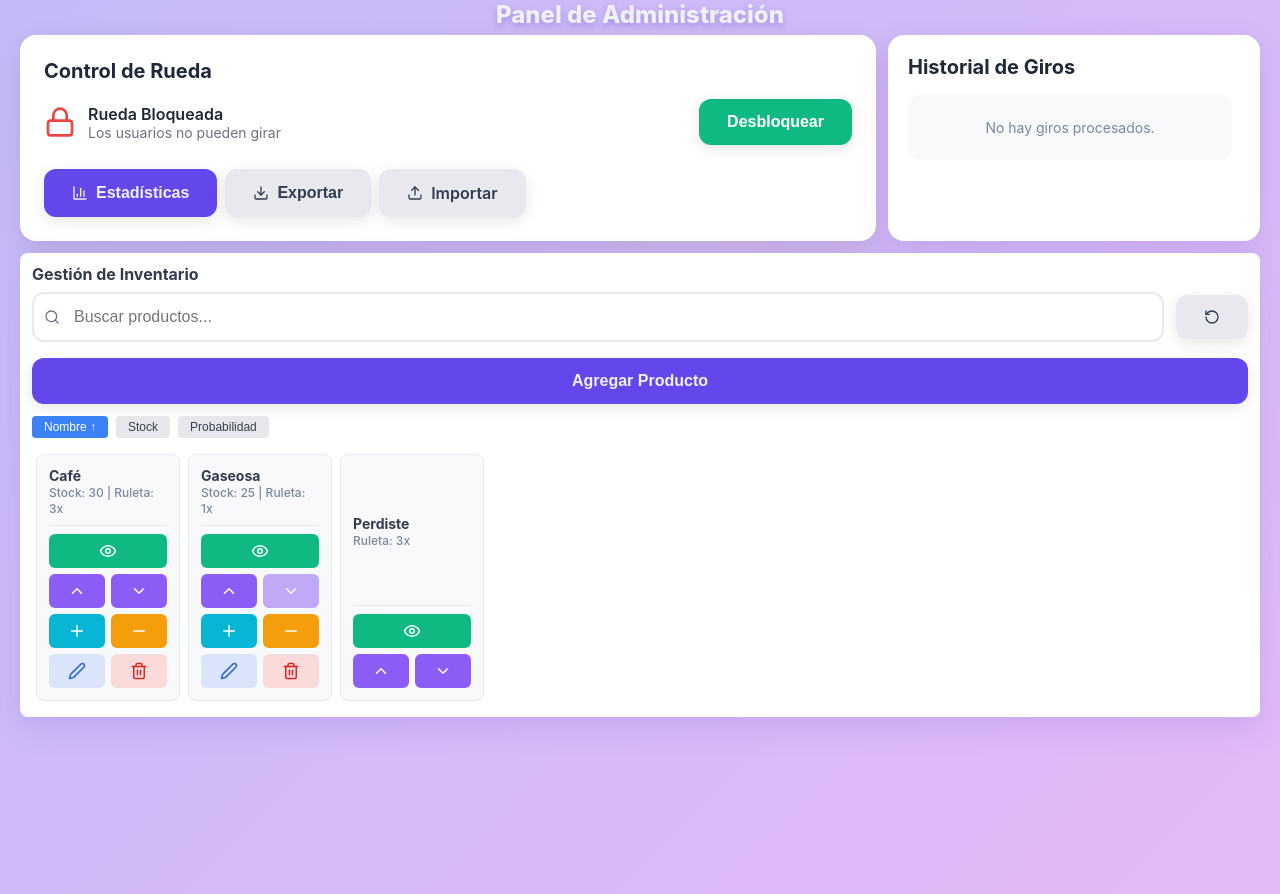
AdminPage › should show add prize form when button clicked
Click the button "Agregar Producto" at (640, 381), box [32,358,1248,404]
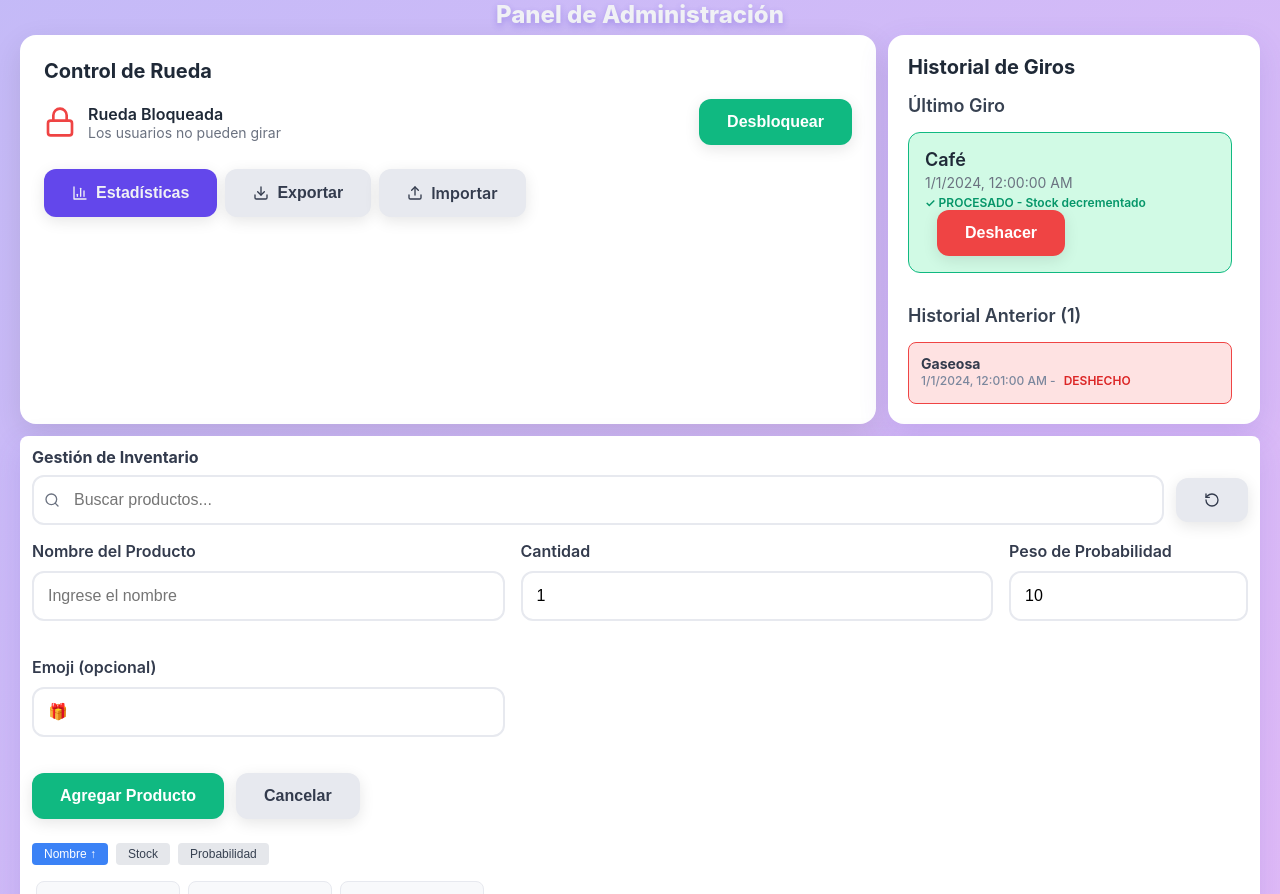
Result: the field with placeholder "Ingrese el nombre" is shown at [32,571,504,621]
